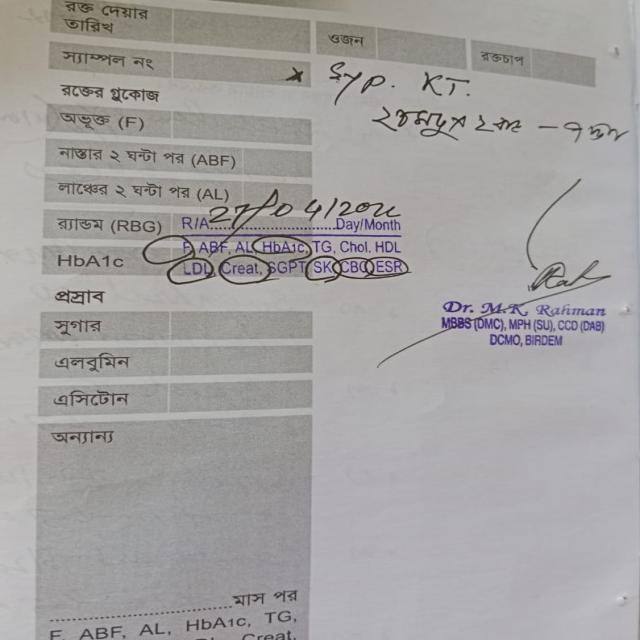KT: (413, 69, 478, 104)
